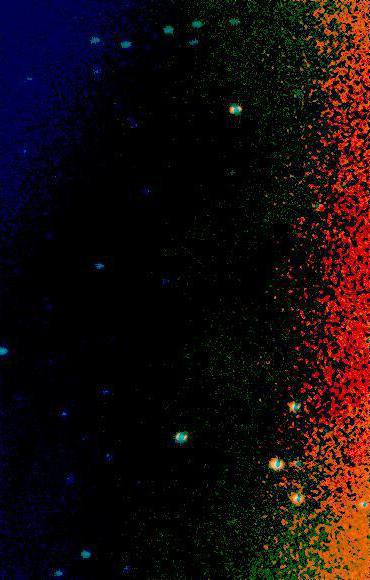star: (183, 127, 213, 157)
